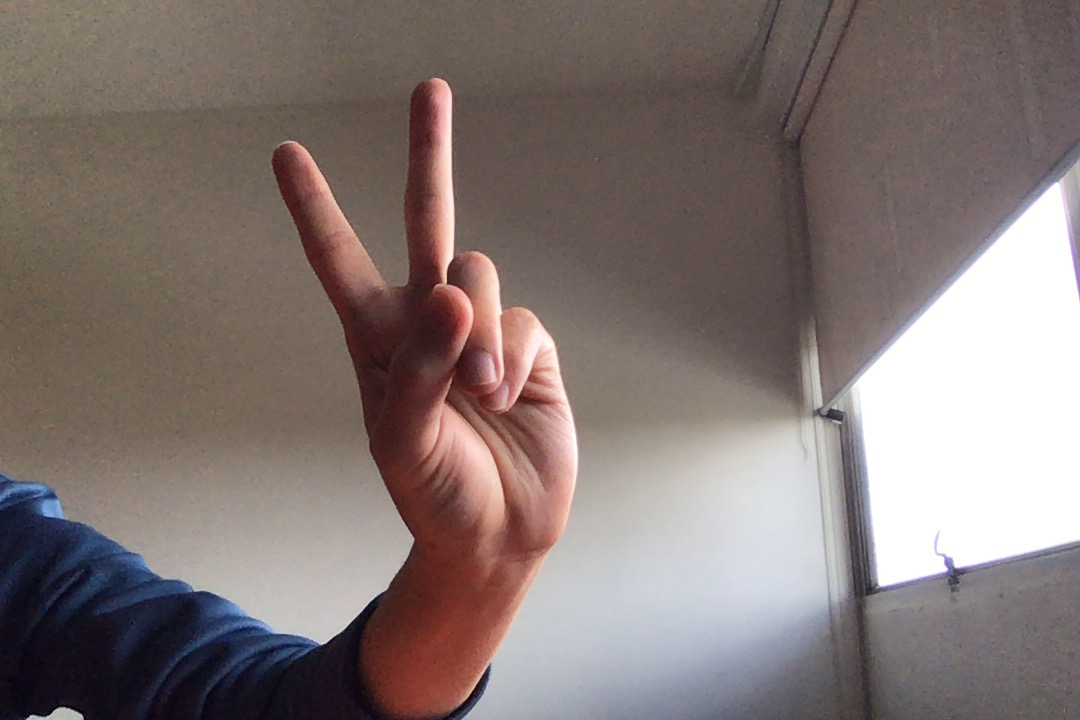peacesign: (257, 68, 598, 576)
